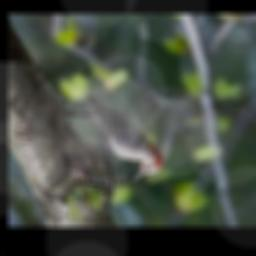Woodpecker: (60, 95, 162, 183)
